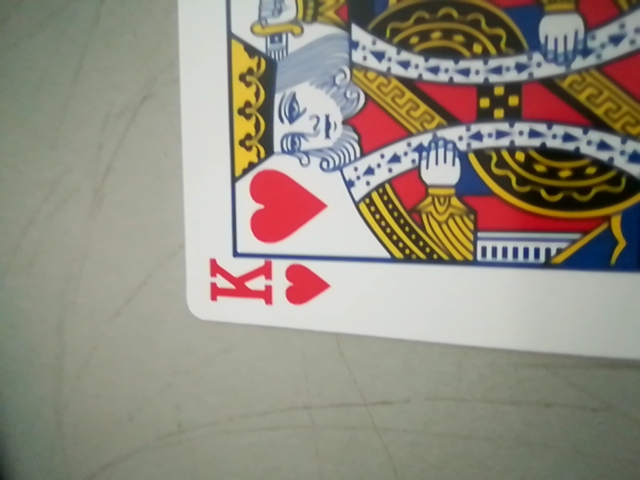hx k: (199, 253, 328, 318)
